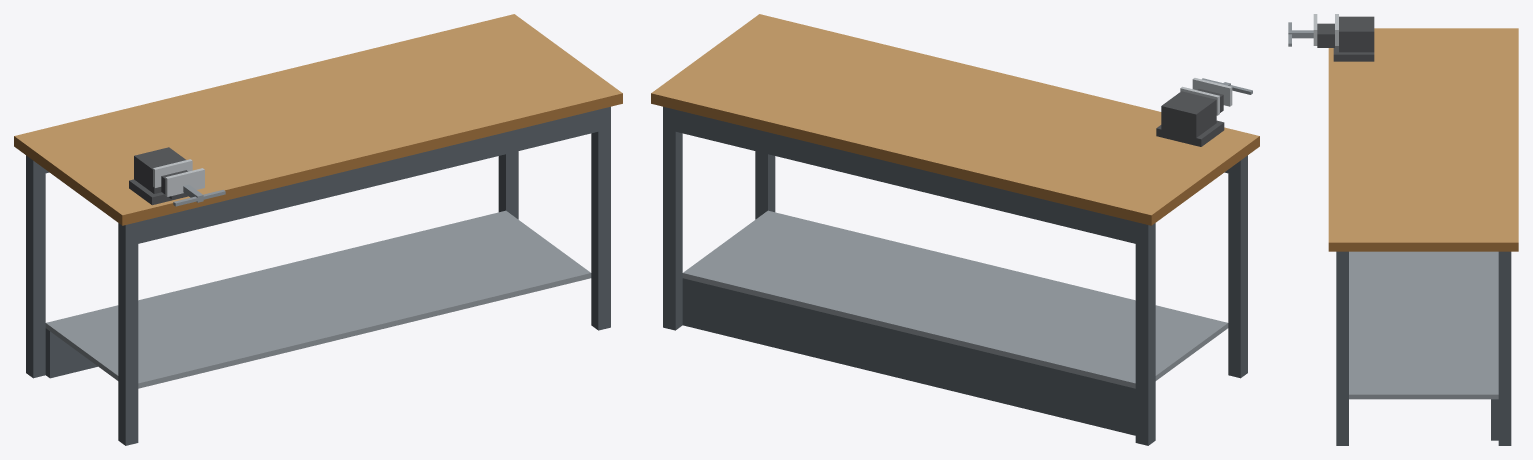
Rendered from SM_Workshop_Workbench_Steel_01.fbx.
The picture shows the model from 3 angles, left to right: view 1: azimuth 30°, elevation 25°; view 2: azimuth 150°, elevation 25°; view 3: azimuth 270°, elevation 25°; orthographic projection. The views are drawn at different scales.
Visible parts, largest first — view 1: SM_Workshop_Workbench_Steel_01; view 2: SM_Workshop_Workbench_Steel_01; view 3: SM_Workshop_Workbench_Steel_01.
Part boxes in pixels (box(x1,y1,x2,y2)): SM_Workshop_Workbench_Steel_01: box(14, 14, 622, 445); SM_Workshop_Workbench_Steel_01: box(651, 14, 1259, 445); SM_Workshop_Workbench_Steel_01: box(1288, 14, 1518, 445).
Size of what is drawn, in the model's own units: 2 by 1.03 by 0.91.
1 material, 1 textured.
